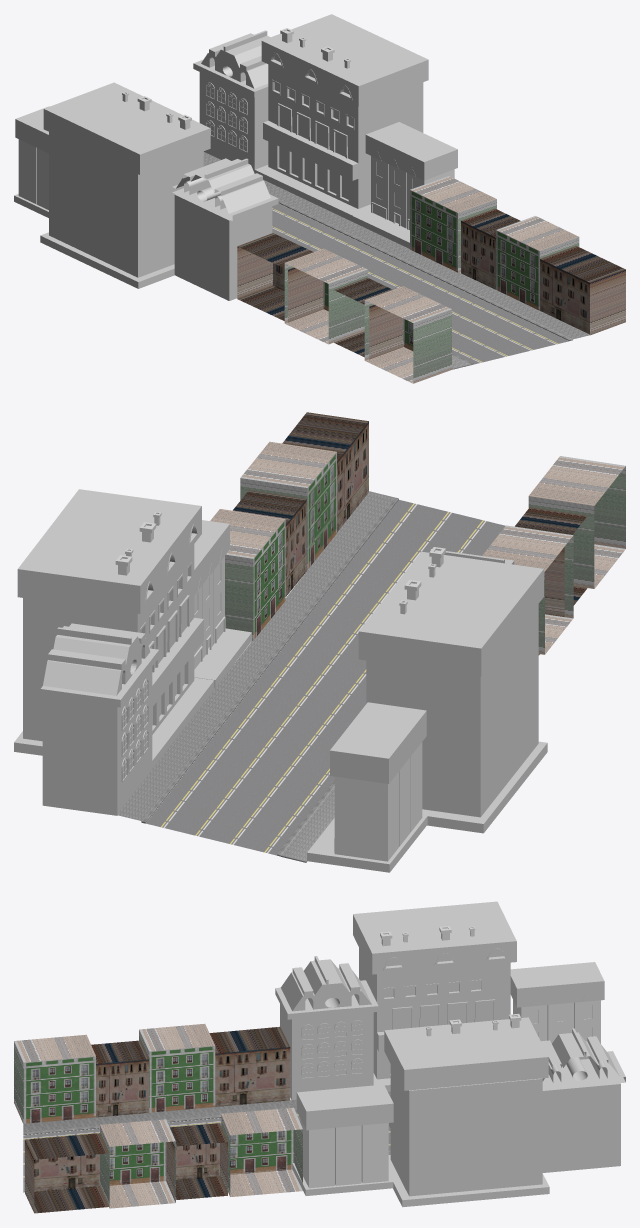
Rendered from Calle C.FBX.
3 views of the same model, one above another, from view 1: azimuth 30°, elevation 25°; view 2: azimuth 150°, elevation 25°; view 3: azimuth 270°, elevation 25° (orthographic). The views are drawn at different scales.
Parts seen in each view (by area): view 1: Rectangle017, Rectangle015, Plane004, Rectangle016, Rectangle014, Circle006, Box096, Box095, Box088, Box080, Box086, Circle007 (+17 smaller); view 2: Plane004, Rectangle017, Rectangle016, Rectangle014, Circle007, Rectangle015, Object124, Box095, Shape021, Box080, Box082, Rectangle019 (+17 smaller); view 3: Rectangle015, Rectangle014, Rectangle016, Box095, Circle007, Rectangle017, Box080, Circle006, Box082, Box096, Box086, Box088 (+17 smaller).
Boxes of the visible parts, x1=… form: Rectangle017: x1=49, y1=132, x2=203, y2=277; Rectangle015: x1=263, y1=64, x2=423, y2=208; Plane004: x1=272, y1=204, x2=568, y2=364; Rectangle016: x1=43, y1=82, x2=210, y2=174; Rectangle014: x1=261, y1=14, x2=428, y2=106; Circle006: x1=174, y1=194, x2=272, y2=300; Box096: x1=540, y1=246, x2=625, y2=334; Box095: x1=364, y1=286, x2=451, y2=383; Box088: x1=237, y1=233, x2=323, y2=322; Box080: x1=410, y1=176, x2=496, y2=272; Box086: x1=284, y1=248, x2=367, y2=344; Circle007: x1=199, y1=72, x2=268, y2=172; Plane004: x1=146, y1=500, x2=504, y2=855; Rectangle017: x1=366, y1=604, x2=538, y2=817; Rectangle016: x1=358, y1=551, x2=543, y2=676; Rectangle014: x1=17, y1=489, x2=201, y2=613; Circle007: x1=42, y1=667, x2=152, y2=815; Rectangle015: x1=23, y1=544, x2=203, y2=741; Object124: x1=117, y1=491, x2=393, y2=820; Box095: x1=528, y1=456, x2=625, y2=588; Shape021: x1=40, y1=623, x2=159, y2=707; Box080: x1=210, y1=509, x2=285, y2=641; Box082: x1=240, y1=441, x2=336, y2=570; Rectangle019: x1=330, y1=702, x2=426, y2=783; Rectangle015: x1=389, y1=1064, x2=542, y2=1196; Rectangle014: x1=384, y1=1017, x2=548, y2=1090; Rectangle016: x1=353, y1=901, x2=516, y2=974; Box095: x1=14, y1=1034, x2=95, y2=1123; Circle007: x1=542, y1=1083, x2=620, y2=1172; Rectangle017: x1=359, y1=948, x2=510, y2=1079; Box080: x1=221, y1=1107, x2=302, y2=1196; Circle006: x1=280, y1=1004, x2=373, y2=1099; Box082: x1=100, y1=1119, x2=175, y2=1208; Box096: x1=25, y1=1133, x2=108, y2=1213; Box086: x1=139, y1=1023, x2=215, y2=1112; Box088: x1=209, y1=1026, x2=290, y2=1106.
Size of the model in its own units: 4595 by 1766 by 6692.
5 materials, 5 textured.
